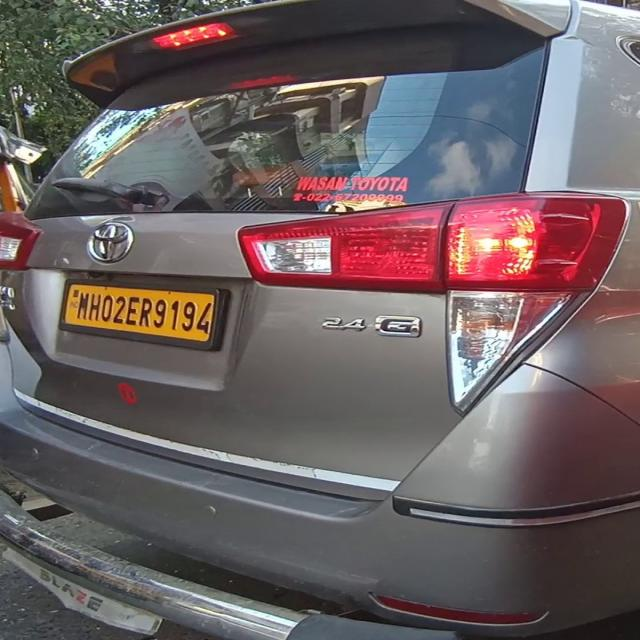Plate: (61, 283, 216, 341)
